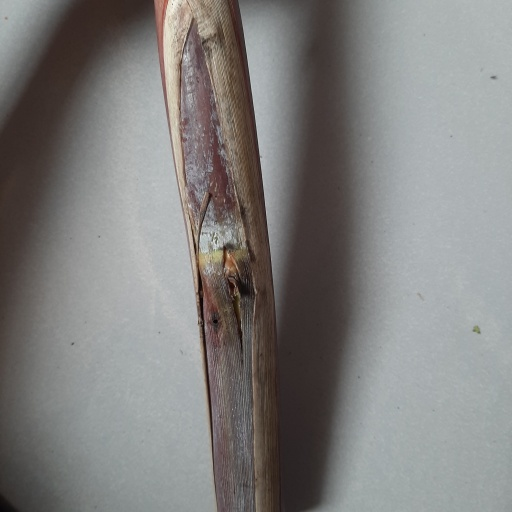Damage_Bud: (221, 247, 246, 327)
